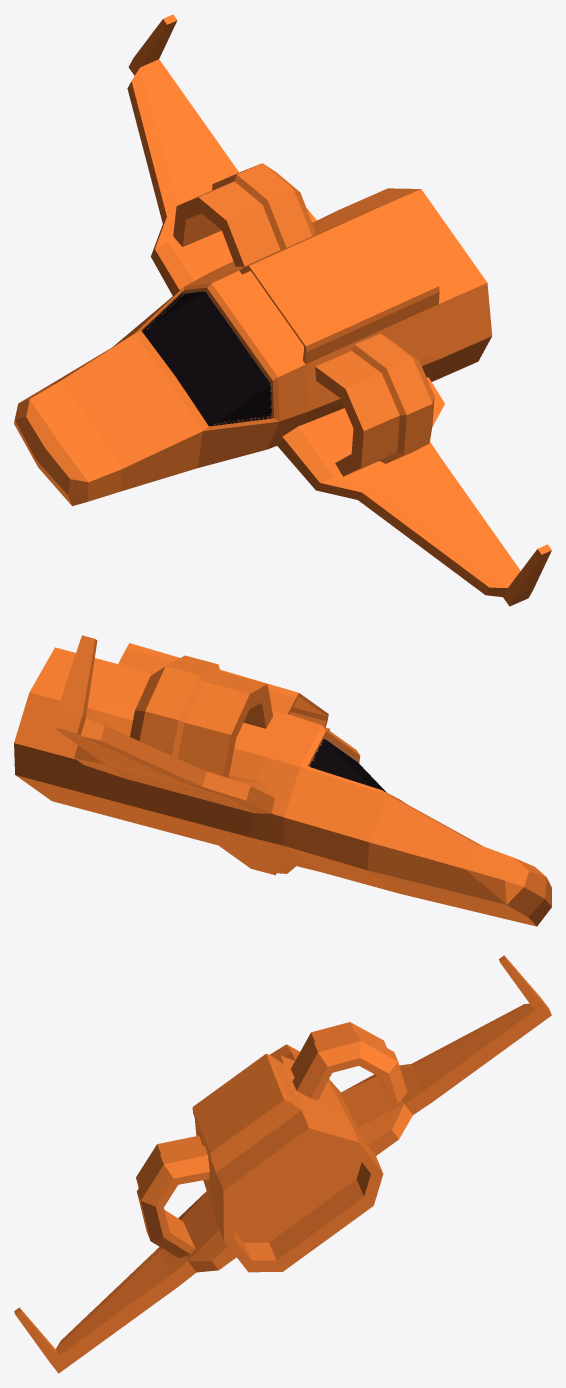
The model's file is Spaceship5.fbx.
3 views of the same model, one above another, from view 1: azimuth 30°, elevation 25°; view 2: azimuth 150°, elevation 25°; view 3: azimuth 270°, elevation 25° (orthographic). The views are drawn at different scales.
Visible parts, largest first — view 1: node_id7 (×2); view 2: node_id7 (×2); view 3: node_id7.
Boxes of the visible parts, x1,y1,x2,y2 form: node_id7 (×2): [14, 14, 551, 606]; node_id7 (×2): [14, 635, 551, 926]; node_id7: [14, 955, 551, 1373].
Size of the model in its own units: 0.3721 by 0.3444 by 0.4499.
Materials: 2 (2 with a texture image).
